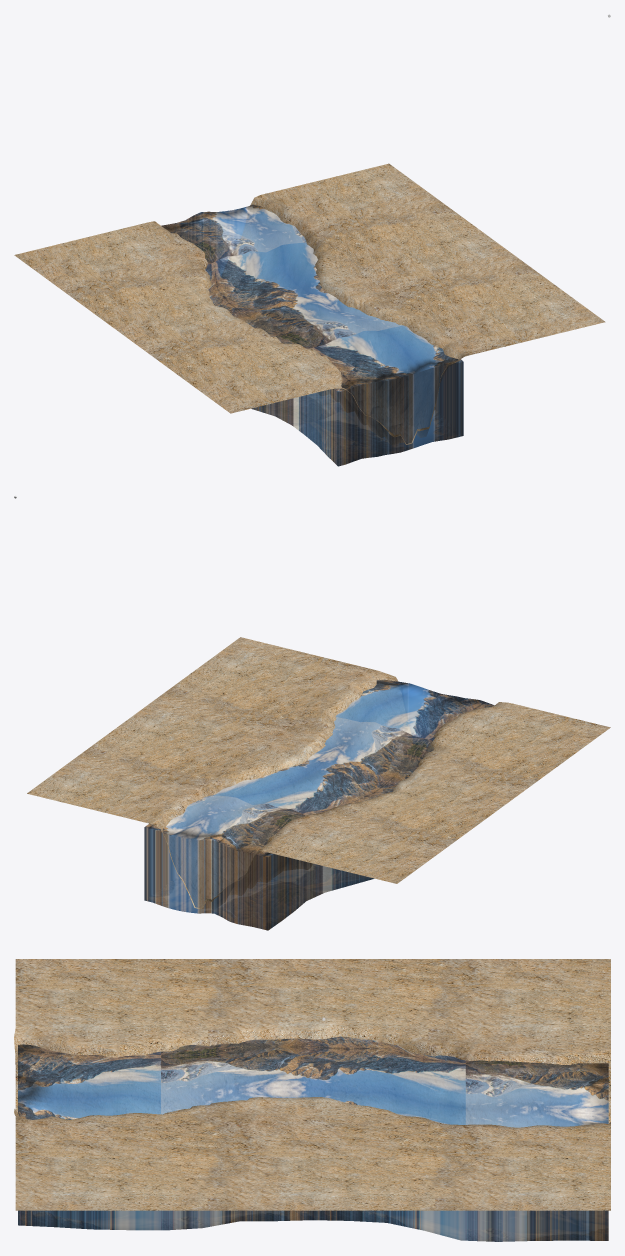
The model's file is river 1.fbx.
3 views of the same model, one above another, from view 1: azimuth 30°, elevation 25°; view 2: azimuth 150°, elevation 25°; view 3: azimuth 270°, elevation 25° (orthographic). The views are drawn at different scales.
Parts seen in each view (by area): view 1: Plane, Plane.001; view 2: Plane, Plane.001; view 3: Plane, Plane.001.
Part boxes in pixels (x1,y1,x2,y2): Plane: (14,163,605,444); Plane.001: (161,204,463,466); Plane: (27,637,610,909); Plane.001: (144,679,494,930); Plane: (14,959,610,1210); Plane.001: (18,1036,608,1241).
Size of the model in its own units: 2781 by 1512 by 2127.
